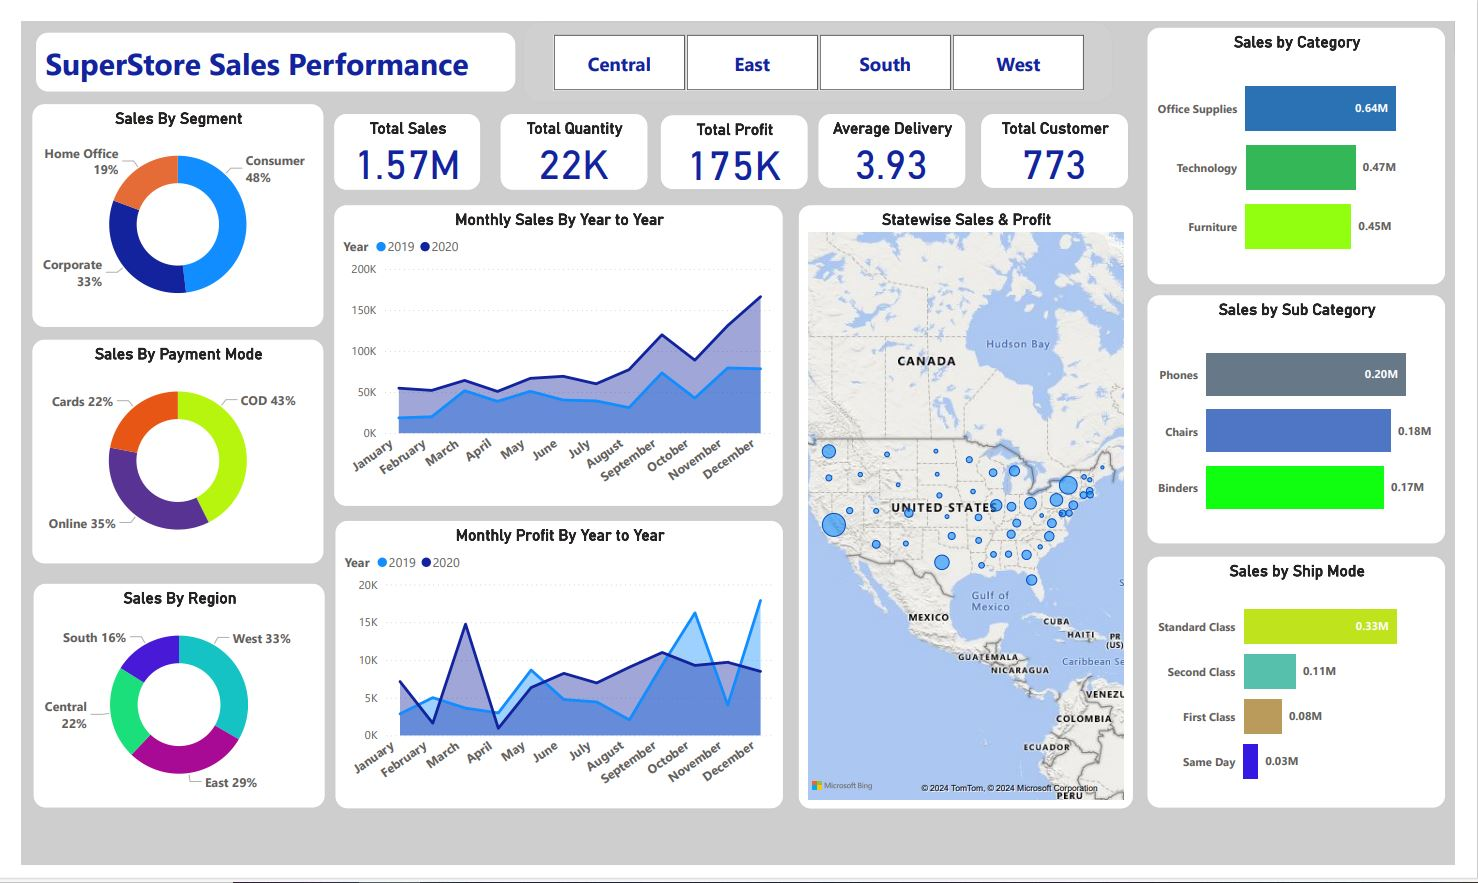

Layout of this report page (visuals, bound fields, positions):
{"tool":"powerbi","page":{"name":"Page 1","canvas":[1530,900],"ordinal":0},"visuals":[{"type":"barChart","title":"Sales by Category","fields":{"Category":["Sheet1.Category"],"Y":["Sum(Sheet1.Sales)"]},"box":[1201.4,5.7,320,275.7],"z":0},{"type":"barChart","title":"Sales by Sub Category","fields":{"Y":["Sum(Sheet1.Sales)"],"Category":["Sheet1.Sub-Category"]},"box":[1201.4,291.4,320,267.1],"z":1000},{"type":"areaChart","title":"Monthly Profit By Year to Year","fields":{"Series":["Sheet1.Order Date.Variation.Date Hierarchy.Year"],"Category":["Sheet1.Order Date.Variation.Date Hierarchy.Month","Sheet1.Order Date.Variation.Date Hierarchy.Day"],"Y":["Sum(Sheet1.Profit)"]},"box":[334.3,531.4,480,308.6],"z":3001},{"type":"map","title":"Statewise Sales & Profit","fields":{"Category":["Sheet1.State"],"Size":["Sum(Sheet1.Sales)"]},"box":[828.6,194.3,358.6,645.7],"z":3002},{"type":"donutChart","title":"Sales By Segment","fields":{"Category":["Sheet1.Segment"],"Y":["Sum(Sheet1.Sales)"]},"box":[10,87.1,312.9,240],"z":3003},{"type":"donutChart","title":"Sales By Payment Mode","fields":{"Y":["Sum(Sheet1.Sales)"],"Category":["Sheet1.Payment Mode"]},"box":[10,338.6,312.9,241.4],"z":3004},{"type":"slicer","fields":{"Values":["Sheet1.Region"]},"box":[535.7,0,630,87.1],"z":3005},{"type":"textbox","box":[14.9,10.8,513.5,64.9],"z":3006},{"type":"card","title":"Total Sales","fields":{"Values":["Sheet1.Total Sales"]},"box":[332.9,97.1,158,82.9],"z":3007},{"type":"card","title":"Total Quantity","fields":{"Values":["Sheet1.Total Quantity"]},"box":[510,97.1,158.6,82.9],"z":3008},{"type":"card","title":"Total Profit","fields":{"Values":["Sheet1.Total Profit"]},"box":[681.4,98.6,158.6,81.4],"z":3009},{"type":"card","title":"Average Delivery","fields":{"Values":["Avg(Sheet1.Average Delivery)"]},"box":[850,97.1,158.6,81.4],"z":3010},{"type":"barChart","title":"Sales by Ship Mode","fields":{"Y":["Sum(Sheet1.Sales)"],"Category":["Sheet1.Ship Mode"]},"box":[1201.4,570,320,270],"z":3011},{"type":"areaChart","title":"Monthly Sales By Year to Year","fields":{"Series":["Sheet1.Order Date.Variation.Date Hierarchy.Year"],"Category":["Sheet1.Order Date.Variation.Date Hierarchy.Month","Sheet1.Order Date.Variation.Date Hierarchy.Day"],"Y":["Sum(Sheet1.Sales)"]},"box":[332.9,194.3,481.4,322.9],"z":3012},{"type":"donutChart","title":"Sales By Region","fields":{"Y":["Sum(Sheet1.Sales)"],"Category":["Sheet1.Region"]},"box":[11.4,598.6,312.9,241.4],"z":3013},{"type":"card","title":"Total Customer","fields":{"Values":["Sheet1.Total Customer"]},"box":[1024.3,97.1,158.6,81.4],"z":3014}]}

Visuals, with their boxes in screenshot pixels (x1, y1, x2, y2), scaled from the page's 1530x900 canvas onto the 1478x883 screenshot:
"Sales by Category" barChart: x1=1161, y1=6, x2=1470, y2=276
"Sales by Sub Category" barChart: x1=1161, y1=286, x2=1470, y2=548
"Monthly Profit By Year to Year" areaChart: x1=323, y1=521, x2=787, y2=824
"Statewise Sales & Profit" map: x1=800, y1=191, x2=1147, y2=824
"Sales By Segment" donutChart: x1=10, y1=85, x2=312, y2=321
"Sales By Payment Mode" donutChart: x1=10, y1=332, x2=312, y2=569
slicer - Sheet1.Region: x1=517, y1=0, x2=1126, y2=85
textbox: x1=14, y1=11, x2=510, y2=74
"Total Sales" card: x1=322, y1=95, x2=474, y2=177
"Total Quantity" card: x1=493, y1=95, x2=646, y2=177
"Total Profit" card: x1=658, y1=97, x2=811, y2=177
"Average Delivery" card: x1=821, y1=95, x2=974, y2=175
"Sales by Ship Mode" barChart: x1=1161, y1=559, x2=1470, y2=824
"Monthly Sales By Year to Year" areaChart: x1=322, y1=191, x2=787, y2=507
"Sales By Region" donutChart: x1=11, y1=587, x2=313, y2=824
"Total Customer" card: x1=989, y1=95, x2=1143, y2=175
